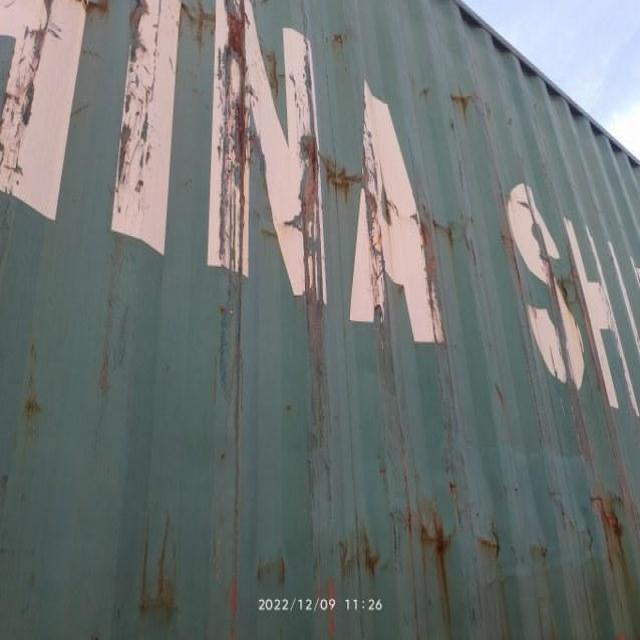rust: (307, 139, 353, 217), (599, 503, 628, 557), (423, 528, 454, 571)
